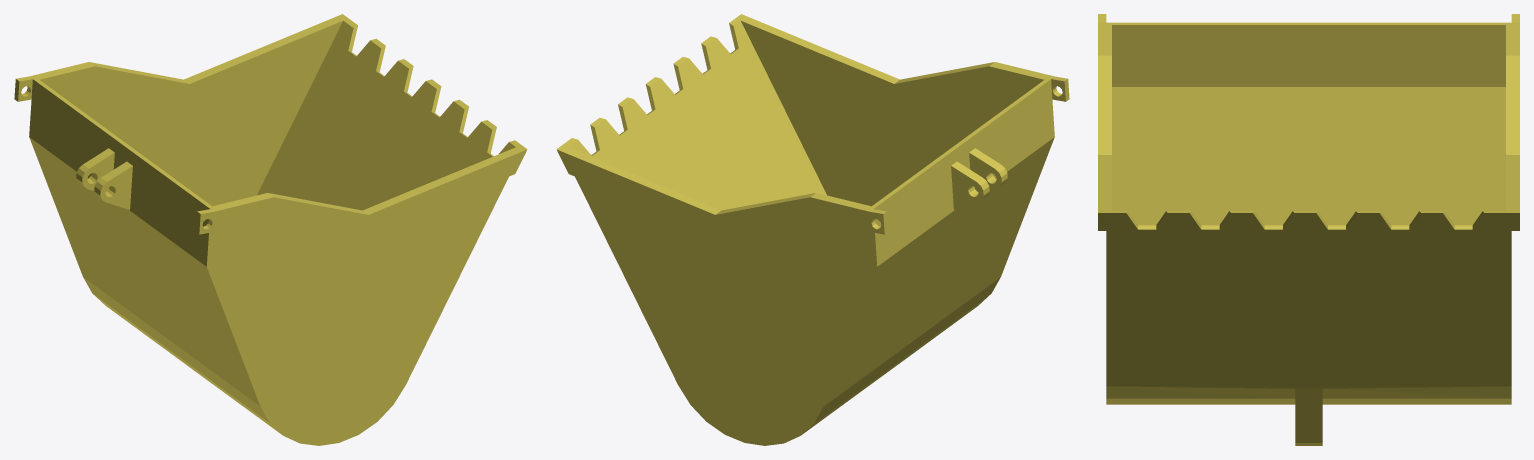
The model's file is bucket_Link.dae.
3 renders of one model, left to right at view 1: azimuth 30°, elevation 25°; view 2: azimuth 150°, elevation 25°; view 3: azimuth 270°, elevation 25°, orthographic. The views are drawn at different scales.
Parts seen in each view (by area): view 1: bucket_Link; view 2: bucket_Link; view 3: bucket_Link.
Boxes of the visible parts, <box> form: bucket_Link: <box>14,14,527,445</box>; bucket_Link: <box>556,14,1069,445</box>; bucket_Link: <box>1098,14,1519,445</box>.
Size of the model in its own units: 1.66 by 1.53 by 1.39.
